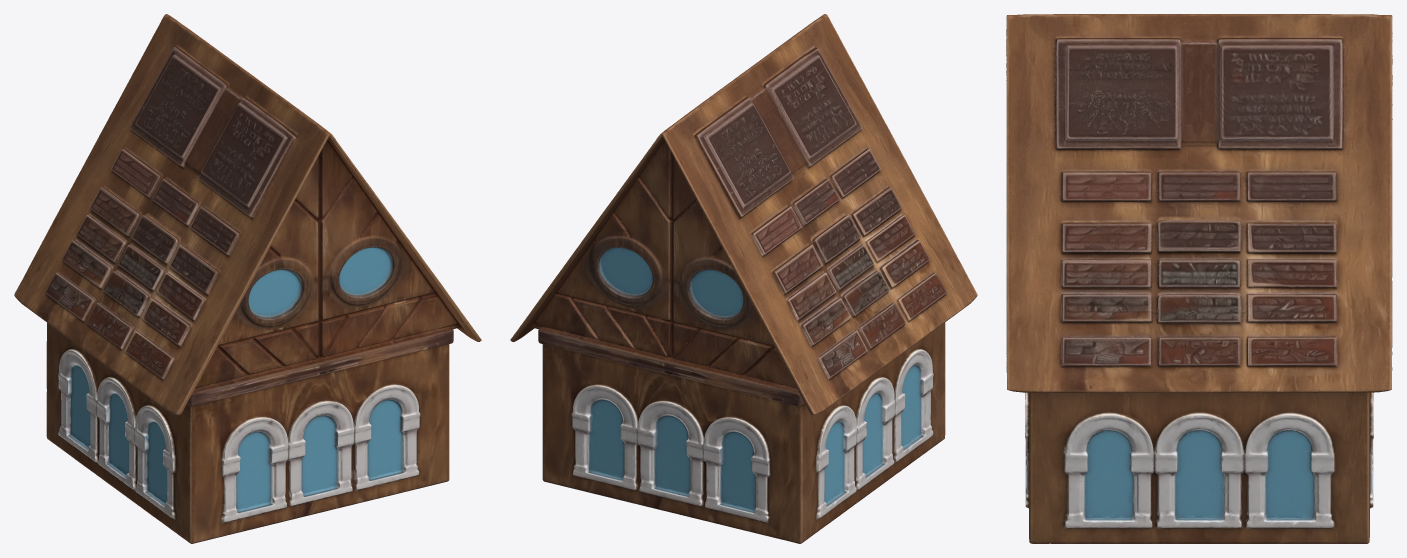
The model's file is casita.glb.
3 views of the same model, side by side, from view 1: azimuth 30°, elevation 25°; view 2: azimuth 150°, elevation 25°; view 3: azimuth 270°, elevation 25° (orthographic). The views are drawn at different scales.
Bounding box in the file's own units: 1.57 × 1.9 × 1.46.
Materials: 1 (1 with a texture image).
